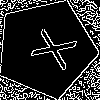X: (21, 23, 78, 72)
